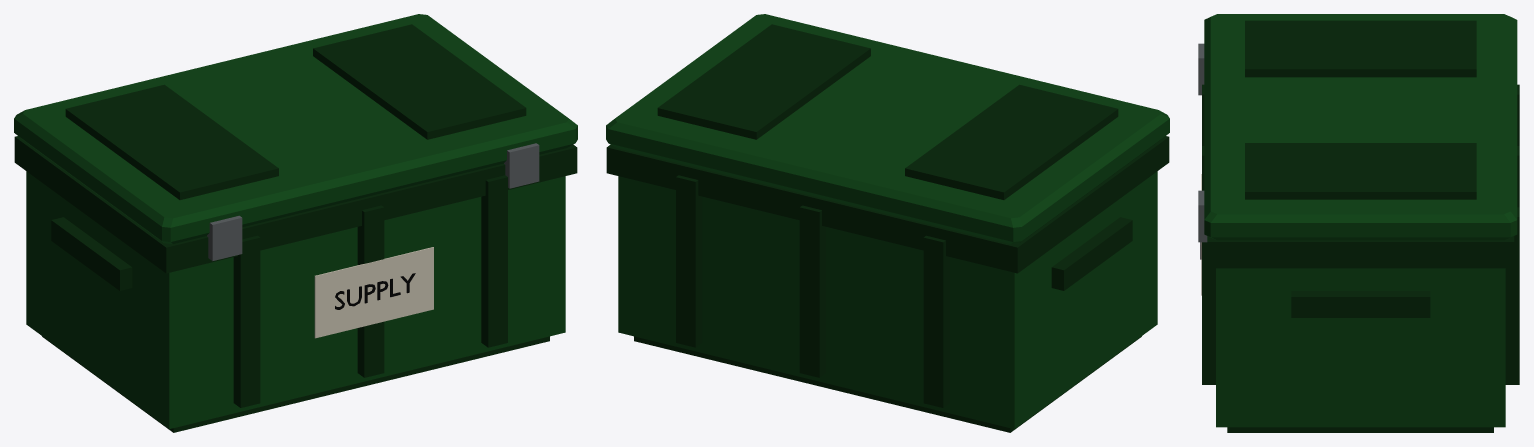
File: SM_Int_Chest_Supply.glb
3 views of the same model, side by side, from view 1: azimuth 30°, elevation 25°; view 2: azimuth 150°, elevation 25°; view 3: azimuth 270°, elevation 25° (orthographic).
Parts seen in each view (by area): view 1: SM_Int_Chest_Supply, SM_Int_Chest_Supply_Lid; view 2: SM_Int_Chest_Supply, SM_Int_Chest_Supply_Lid; view 3: SM_Int_Chest_Supply_Lid, SM_Int_Chest_Supply.
Part boxes in pixels (x1=…): SM_Int_Chest_Supply: x1=14, y1=136, x2=577, y2=432; SM_Int_Chest_Supply_Lid: x1=14, y1=14, x2=577, y2=260; SM_Int_Chest_Supply: x1=606, y1=136, x2=1169, y2=432; SM_Int_Chest_Supply_Lid: x1=606, y1=14, x2=1169, y2=243; SM_Int_Chest_Supply_Lid: x1=1198, y1=14, x2=1517, y2=242; SM_Int_Chest_Supply: x1=1200, y1=84, x2=1519, y2=432.
Bounding box in the file's own units: 0.85 × 0.445 × 0.554.
1 material, 1 textured.
